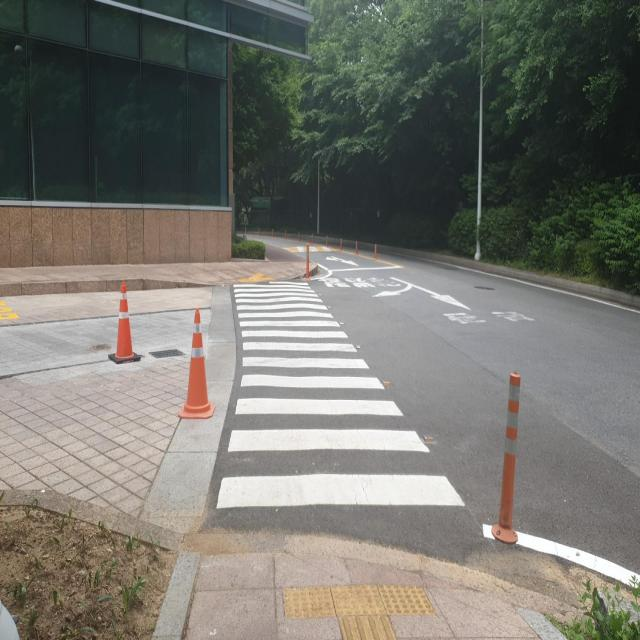횡단보도: (213, 272, 468, 510)
